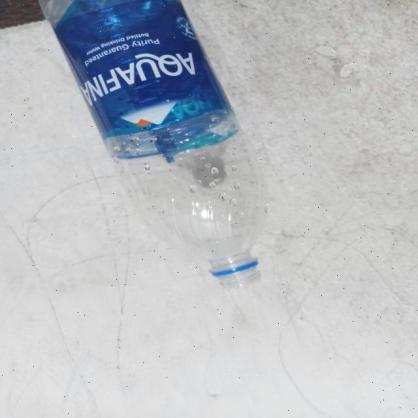bottle: (34, 0, 274, 310)
label: (49, 0, 248, 166)
